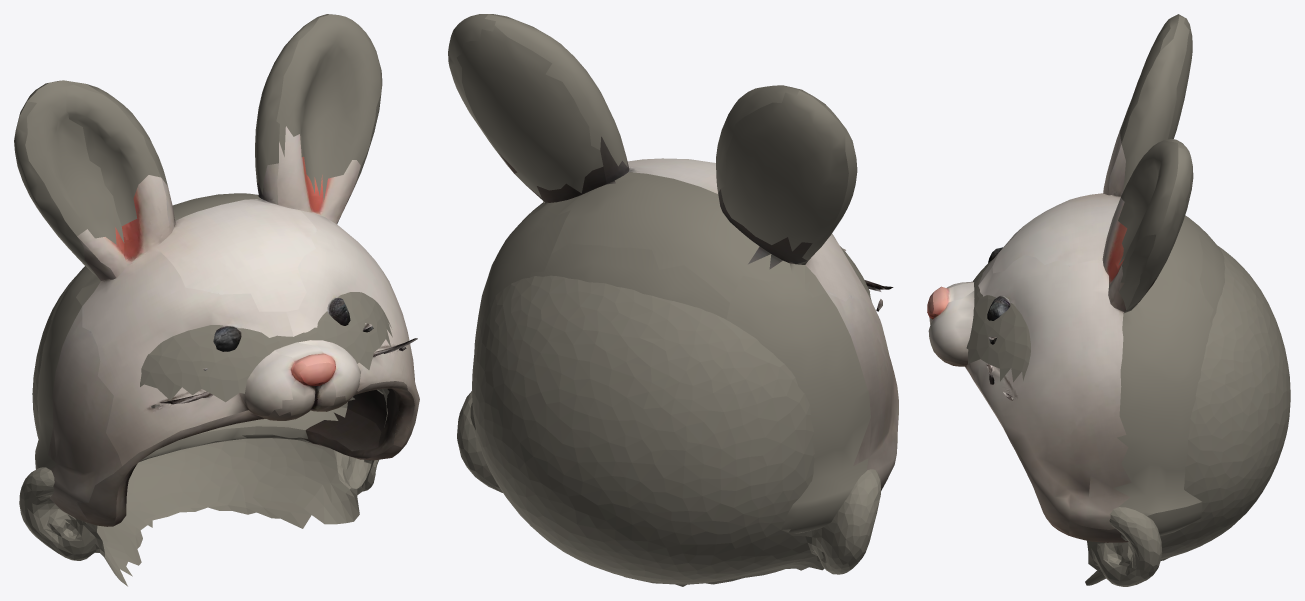
File: rabbit.glb
3 renders of one model, left to right at view 1: azimuth 30°, elevation 25°; view 2: azimuth 150°, elevation 25°; view 3: azimuth 270°, elevation 25°, orthographic. The views are drawn at different scales.
Parts seen in each view (by area): view 1: geometry_0, HoodAnatomicalLining; view 2: geometry_0, HoodAnatomicalLining; view 3: geometry_0, HoodAnatomicalLining.
Boxes of the visible parts, x1=… form: geometry_0: x1=14, y1=14, x2=419, y2=526; HoodAnatomicalLining: x1=19, y1=273, x2=392, y2=586; geometry_0: x1=448, y1=14, x2=898, y2=533; HoodAnatomicalLining: x1=457, y1=246, x2=880, y2=586; geometry_0: x1=927, y1=14, x2=1225, y2=542; HoodAnatomicalLining: x1=966, y1=245, x2=1290, y2=586.
Size of the model in its own units: 0.515 by 0.6305 by 0.4542.
2 materials, 1 textured.
